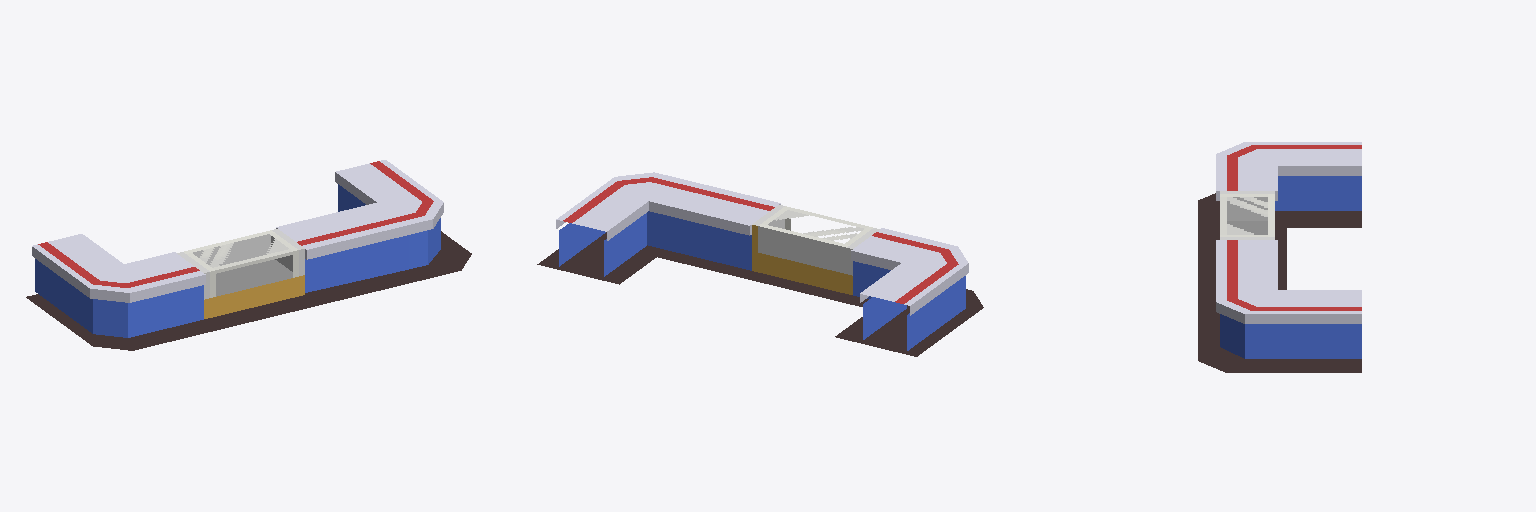
The picture shows the model from 3 angles: view 1: azimuth 30°, elevation 25°; view 2: azimuth 150°, elevation 25°; view 3: azimuth 270°, elevation 25°; orthographic projection.
Parts seen in each view (by area): view 1: polygon0.000_polygon0.003; view 2: polygon0.000_polygon0.003; view 3: polygon0.000_polygon0.003.
Part boxes in pixels (x1,y1,x2,y2): polygon0.000_polygon0.003: (26,160,471,350); polygon0.000_polygon0.003: (537,172,983,356); polygon0.000_polygon0.003: (1198,142,1361,372).
Bounding box in the file's own units: 1.88 × 0.2344 × 0.7031.
8 materials, 7 textured.